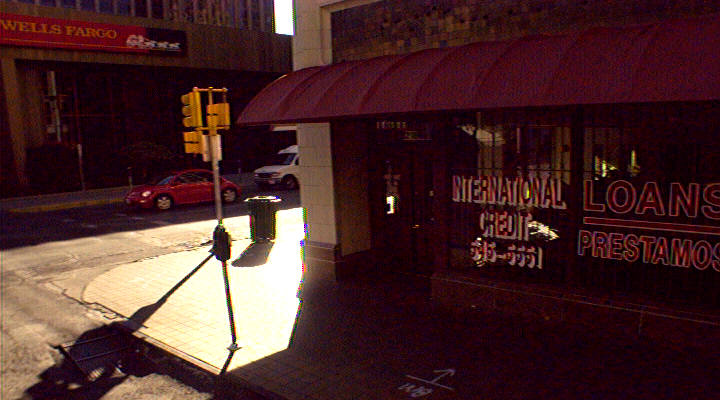Ramp: (57, 251, 223, 336)
